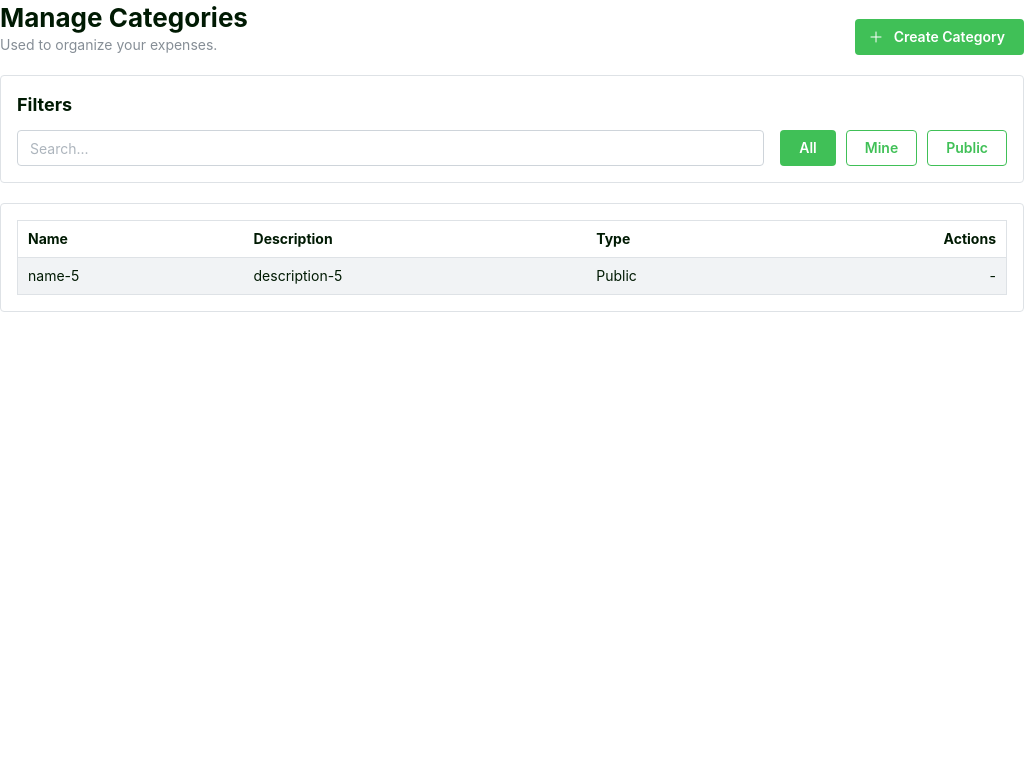
TableCategories › should SHOW create modal
Click the button "Create Category".
click(939, 37)  # box [855, 19, 1023, 55]
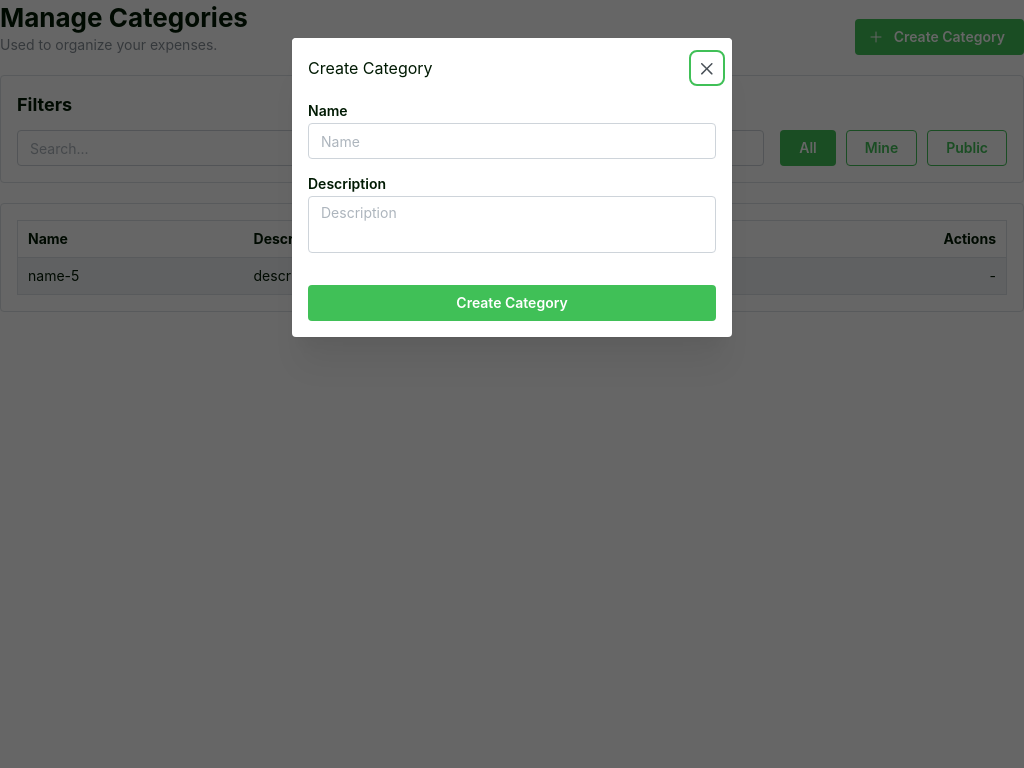
Now the element with test id "create-category" is shown, box [308, 98, 716, 321]
